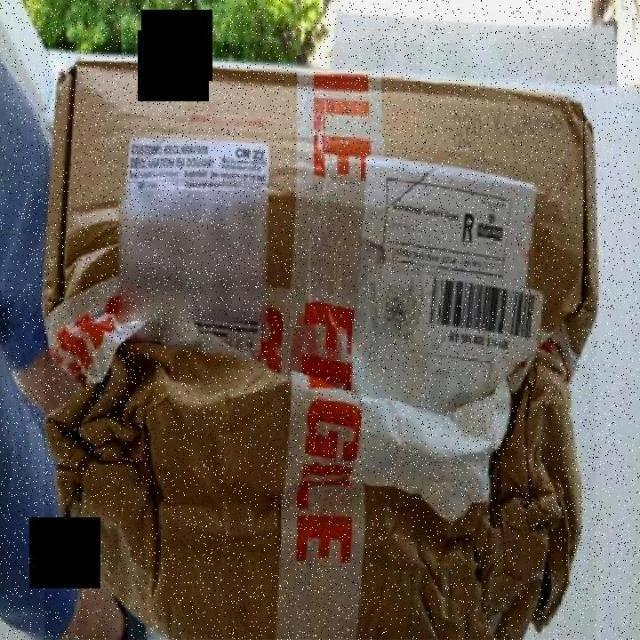box: (44, 42, 596, 640)
